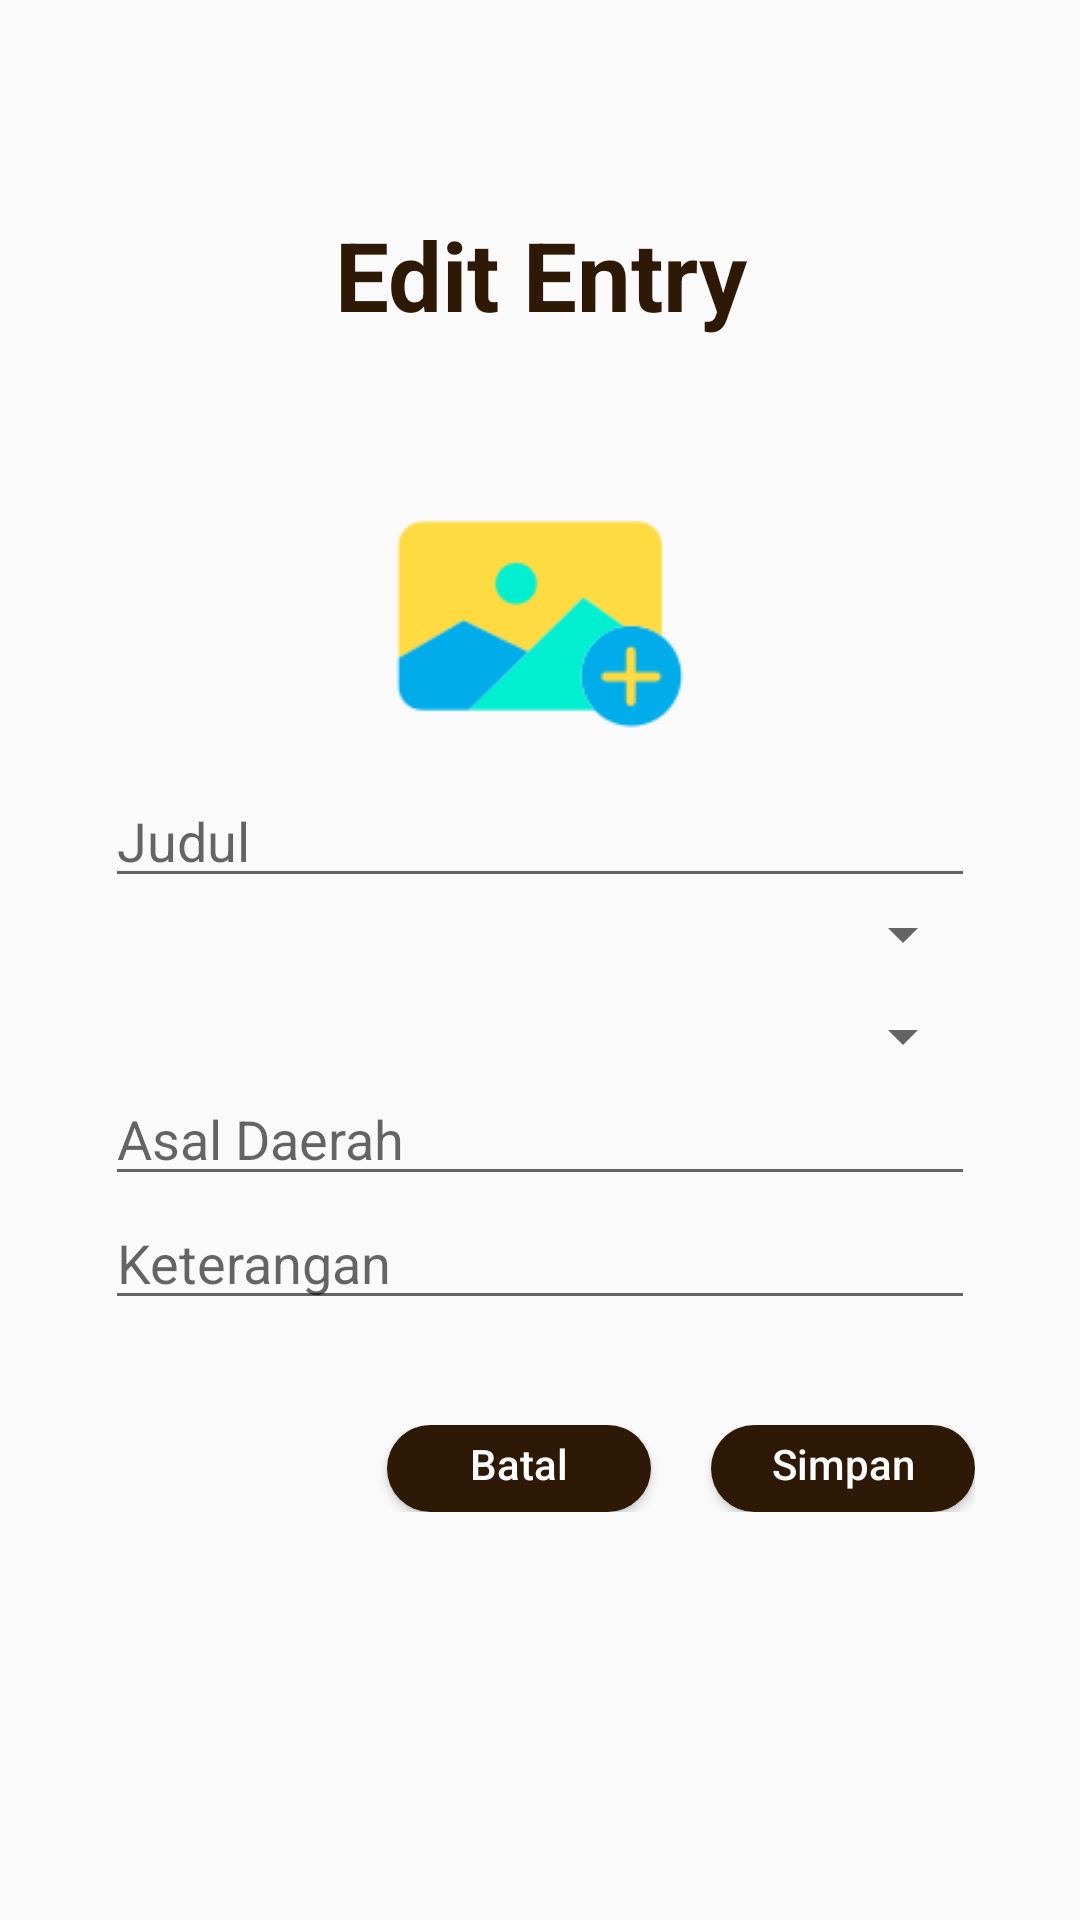

Screen size 1080*1920. Icon name, then its box in pixels as (x1, y1, x2, y2):
add: (397, 520, 683, 728)
